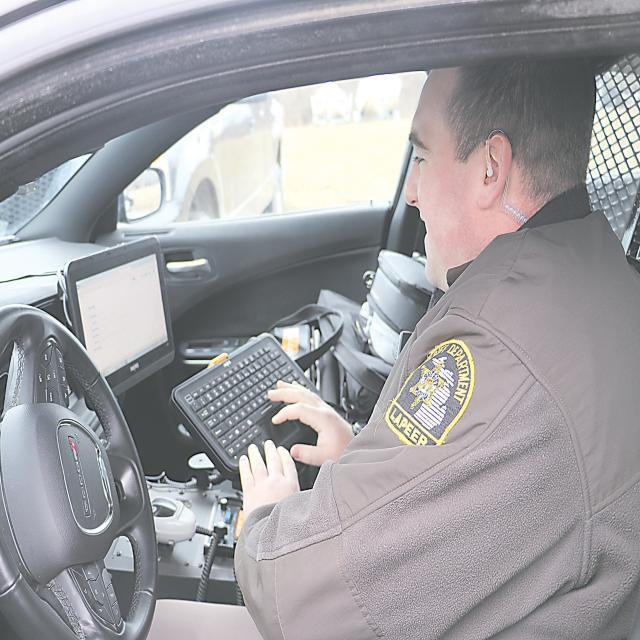police: (235, 53, 640, 640)
